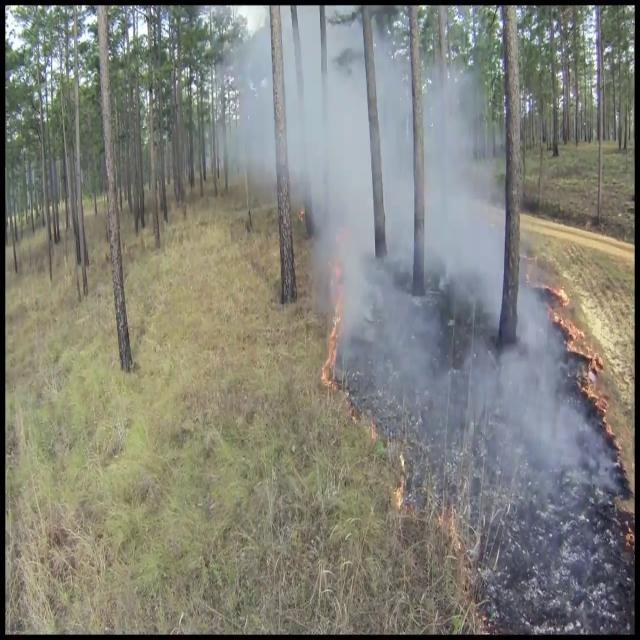Fire: (320, 286, 346, 387)
Smoke: (357, 202, 602, 514), (224, 0, 503, 245)
